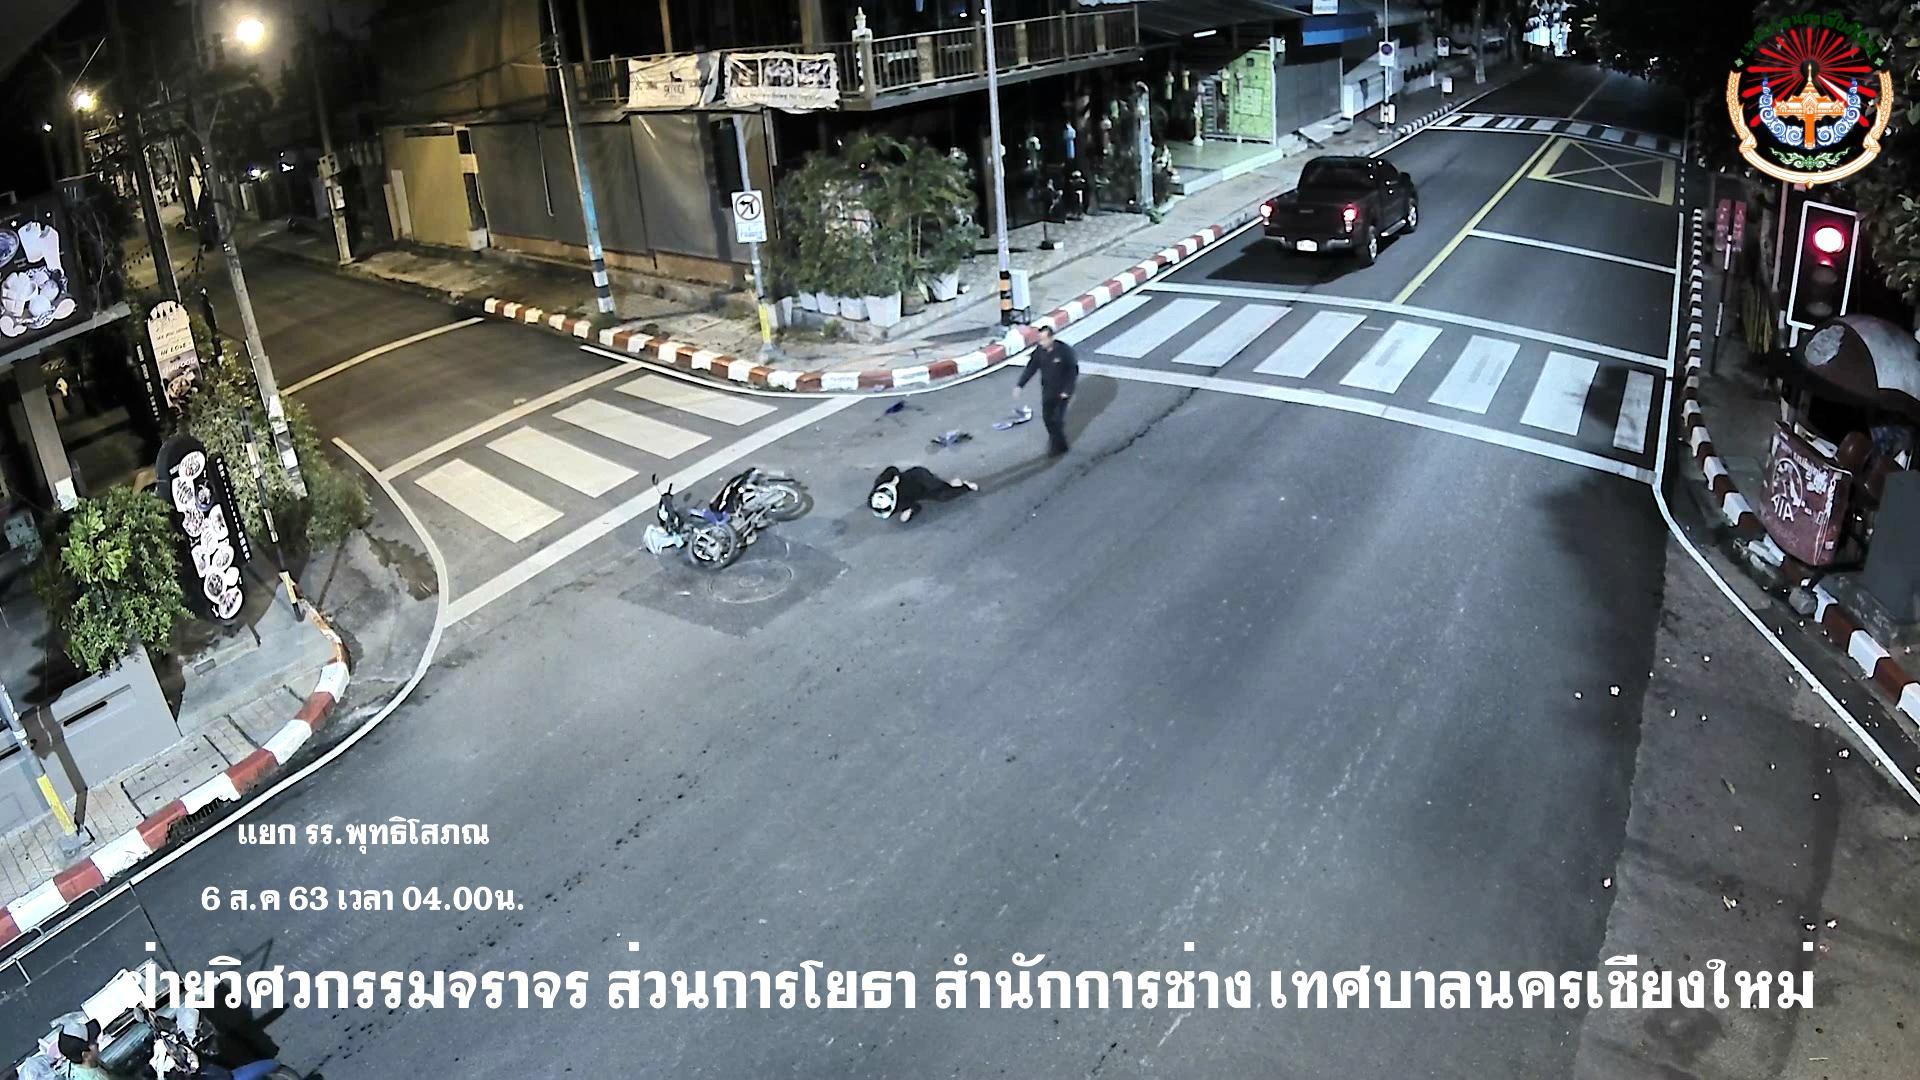accident: (866, 463, 982, 527)
